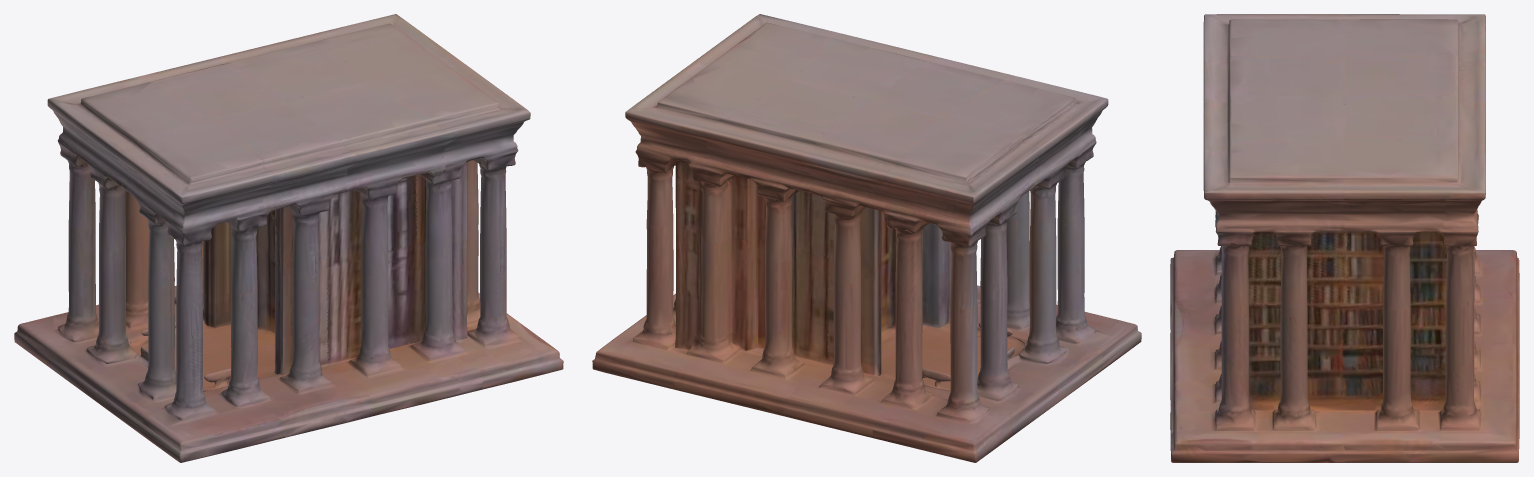
File: library.glb
3 views of the same model, side by side, from view 1: azimuth 30°, elevation 25°; view 2: azimuth 150°, elevation 25°; view 3: azimuth 270°, elevation 25° (orthographic). The views are drawn at different scales.
Visible parts, largest first — view 1: tripo_node_bf51135f-b821-44bf-9a19-2a6dbc43db87; view 2: tripo_node_bf51135f-b821-44bf-9a19-2a6dbc43db87; view 3: tripo_node_bf51135f-b821-44bf-9a19-2a6dbc43db87.
Part boxes in pixels (x1=…): tripo_node_bf51135f-b821-44bf-9a19-2a6dbc43db87: x1=14, y1=14, x2=563, y2=462; tripo_node_bf51135f-b821-44bf-9a19-2a6dbc43db87: x1=592, y1=14, x2=1141, y2=462; tripo_node_bf51135f-b821-44bf-9a19-2a6dbc43db87: x1=1170, y1=14, x2=1519, y2=462.
Bounding box in the file's own units: 0.9502 × 0.6081 × 0.7151.
1 material, 1 textured.
